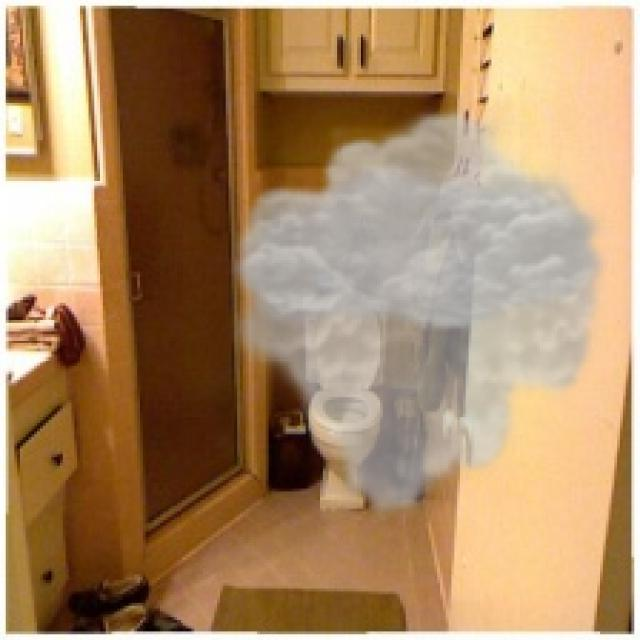Smoke: (222, 106, 614, 523)
